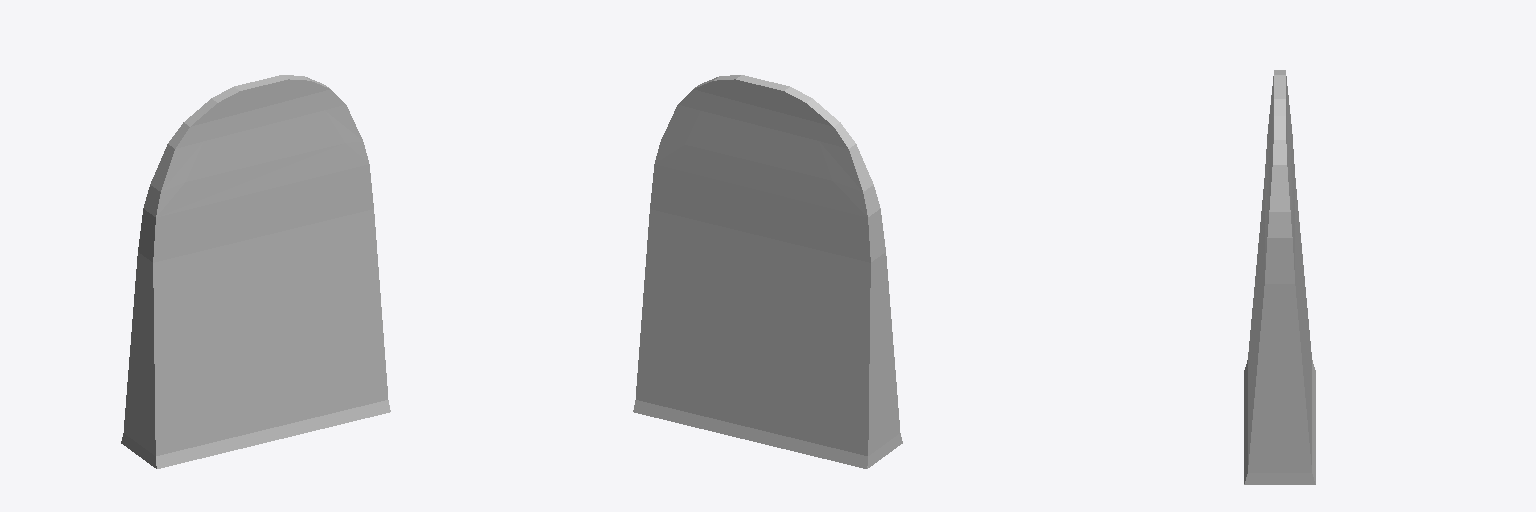
Rendered from Tomb 1.obj.
3 views of the same model, side by side, from view 1: azimuth 30°, elevation 25°; view 2: azimuth 150°, elevation 25°; view 3: azimuth 270°, elevation 25° (orthographic).
Parts seen in each view (by area): view 1: SmallTombstone4_cracked; view 2: SmallTombstone4_cracked; view 3: SmallTombstone4_cracked.
Boxes of the visible parts, box(x1,y1,x2,y2) form: SmallTombstone4_cracked: box(121, 75, 390, 468); SmallTombstone4_cracked: box(633, 75, 902, 468); SmallTombstone4_cracked: box(1244, 70, 1315, 484).
Bounding box in the file's own units: 32.67 × 45.81 × 8.64.